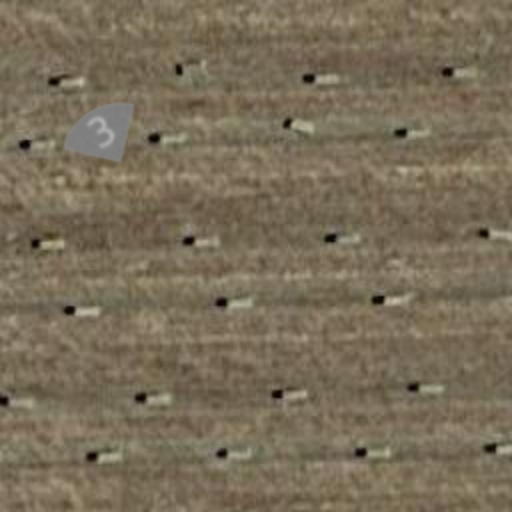quarter_circle: (46, 76, 158, 188)
